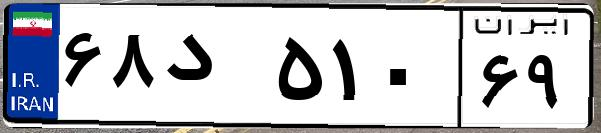0: (385, 28, 445, 110)
1: (330, 28, 385, 110)
5: (270, 28, 330, 110)
6: (57, 26, 110, 100), (475, 38, 525, 113)
8: (110, 28, 158, 98)
9: (525, 38, 570, 115)
د: (158, 20, 270, 120)
